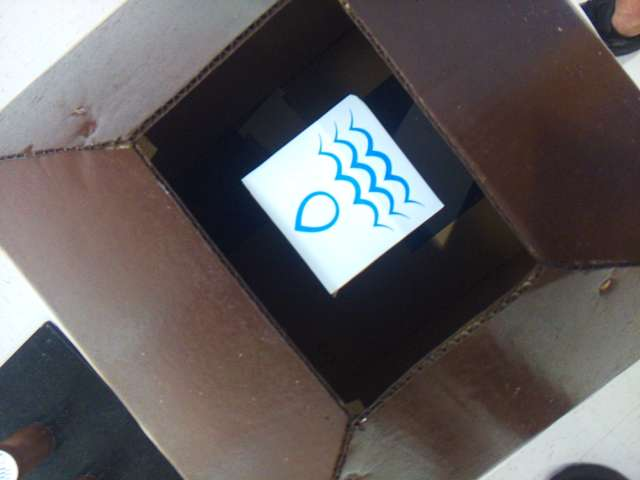water_barn: (243, 95, 440, 291)
